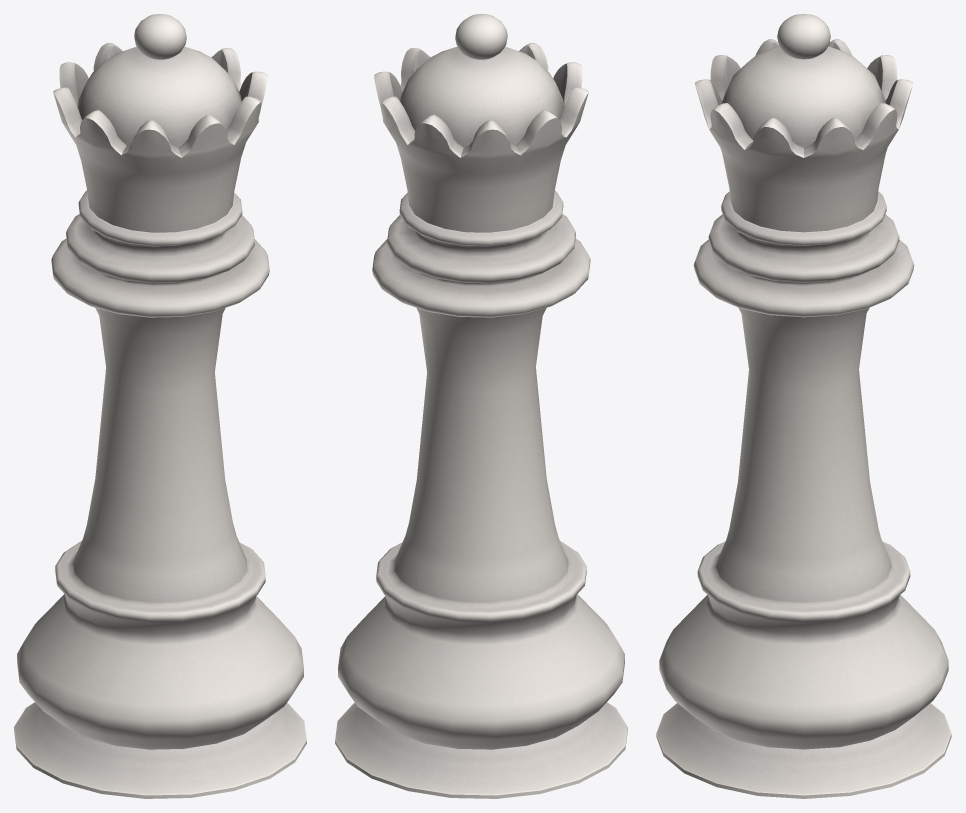
The model's file is White_queen.dae.
3 views of the same model, side by side, from view 1: azimuth 30°, elevation 25°; view 2: azimuth 150°, elevation 25°; view 3: azimuth 270°, elevation 25° (orthographic).
Visible parts, largest first — view 1: Queen; view 2: Queen; view 3: Queen.
Boxes of the visible parts, <box> form: Queen: <box>14,14,306,798</box>; Queen: <box>335,14,627,798</box>; Queen: <box>656,14,951,798</box>.
Bounding box in the file's own units: 1.83 × 4.94 × 1.84.
